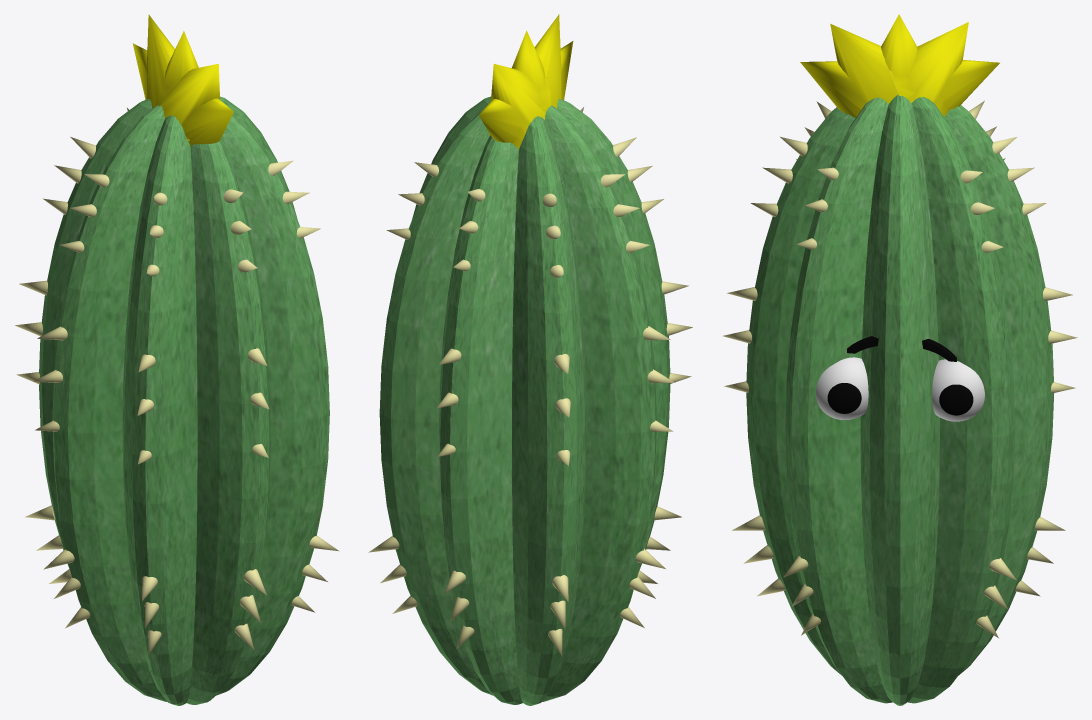
Rendered from cactus.fbx.
The picture shows the model from 3 angles, left to right: view 1: azimuth 30°, elevation 25°; view 2: azimuth 150°, elevation 25°; view 3: azimuth 270°, elevation 25°; orthographic projection. The views are drawn at different scales.
Parts seen in each view (by area): view 1: body2, body1, hair, spine3, spine9, spine5, spine6, spine8, spine10, spine1, spine, spine2; view 2: body2, body1, hair, spine9, spine5, spine7, spine4, spine8, spine10, spine1, spine, spine2; view 3: body1, body2, hair, r_eye_w (×2), spine3, spine7, spine, spine4, spine6, l_eye_b, r_eye_b, eyebrow.
Part boxes in pixels (x1,y1,x2,y2): body2: (39, 99, 329, 705); body1: (52, 96, 297, 704); hair: (132, 14, 233, 145); spine3: (223, 189, 266, 650); spine9: (43, 174, 109, 628); spine5: (25, 137, 95, 583); spine6: (268, 160, 339, 612); spine8: (142, 192, 167, 655); spine10: (33, 326, 67, 431); spine1: (15, 280, 47, 384); spine: (247, 348, 269, 457); spine2: (137, 354, 155, 464); body2: (379, 99, 670, 705); body1: (412, 96, 656, 704); hair: (479, 14, 573, 149); spine9: (600, 174, 665, 627); spine5: (542, 193, 568, 656); spine7: (368, 162, 438, 613); spine4: (444, 189, 485, 649); spine8: (613, 137, 681, 583); spine10: (643, 326, 674, 431); spine1: (554, 354, 570, 465); spine: (436, 348, 461, 456); spine2: (661, 281, 692, 383); body1: (746, 94, 1054, 705); body2: (785, 97, 1014, 703); hair: (800, 14, 999, 117); r_eye_w (×2): (816, 357, 984, 421); spine3: (732, 137, 807, 596); spine7: (960, 170, 1016, 638); spine: (723, 287, 1077, 393); spine4: (992, 137, 1065, 596); spine6: (783, 167, 838, 635); l_eye_b: (939, 384, 973, 415); r_eye_b: (827, 383, 861, 413); eyebrow: (847, 336, 956, 361).
Bounding box in the file's own units: 1.94 × 4.42 × 2.08.
Materials: 8 (1 with a texture image).
